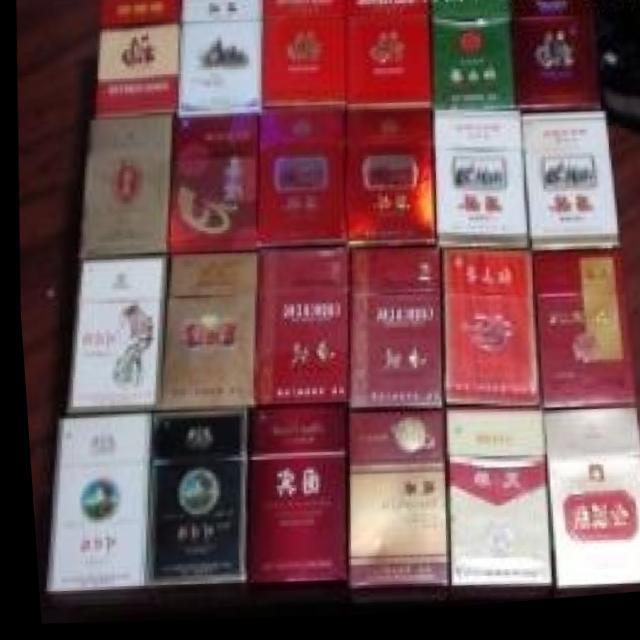box: (38, 411, 145, 592), (440, 415, 545, 596), (340, 413, 443, 596), (138, 411, 243, 589), (538, 417, 640, 597), (241, 408, 343, 586), (528, 255, 630, 421), (435, 256, 535, 420), (245, 251, 343, 416), (153, 254, 253, 412), (58, 261, 160, 412), (343, 256, 438, 418), (340, 110, 433, 258), (431, 115, 528, 256), (253, 108, 345, 253), (518, 120, 616, 256), (163, 118, 258, 258), (77, 119, 172, 259), (431, 0, 518, 120), (94, 0, 181, 118), (512, 0, 596, 120), (175, 0, 260, 118), (345, 0, 433, 112), (260, 0, 347, 111)
